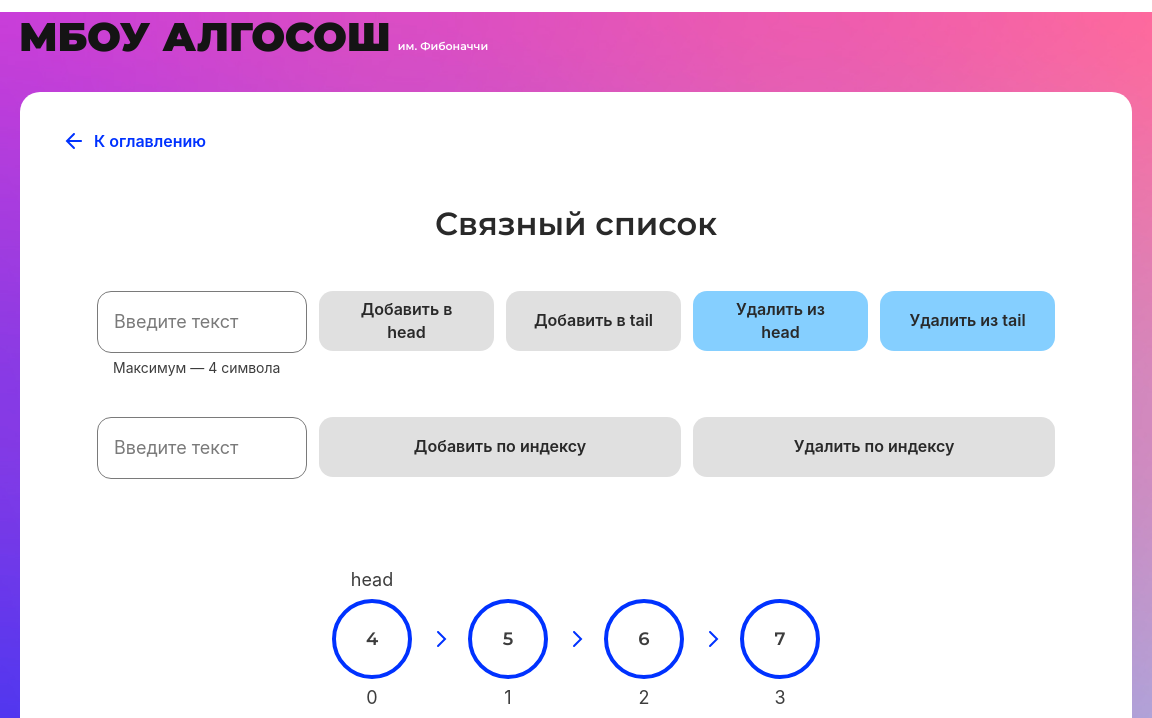
Test: list works right › adding element to head
The image size is (1152, 718).
Step 1. Type "1" into the field with test id "mainInput" showing "Введите текст" → (202, 322), box [97, 291, 307, 353]
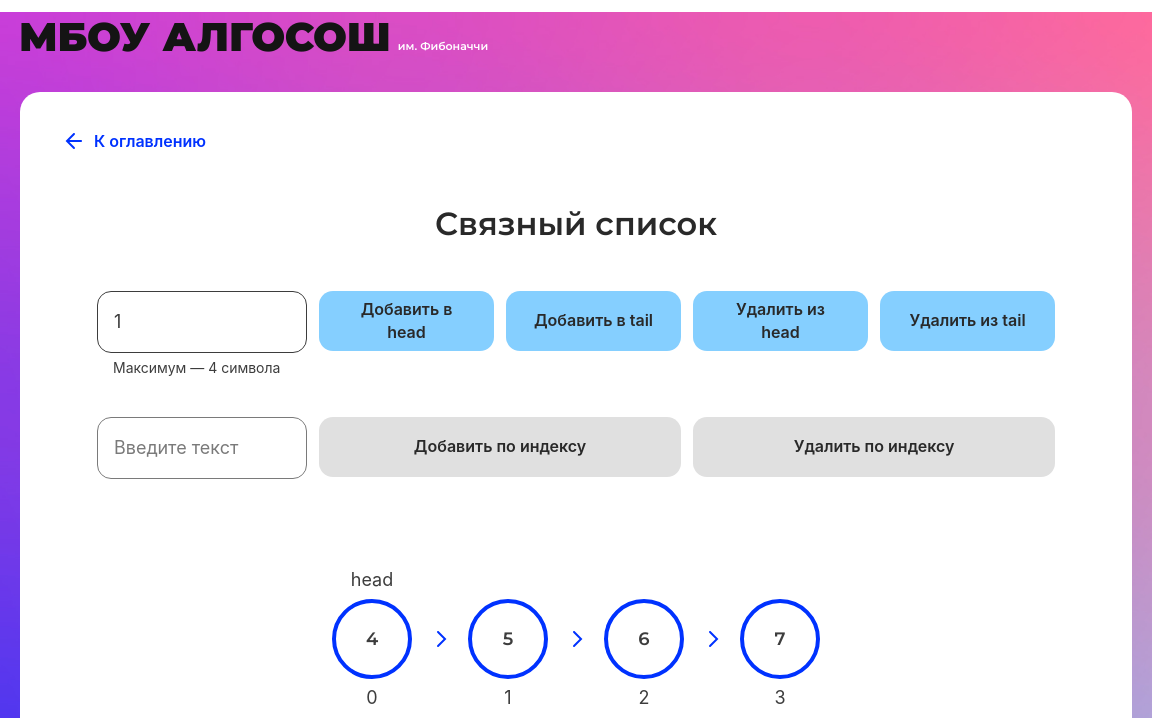
Step 2. Click the button with test id "actionButton" showing "Добавить в head" → (407, 321), box [319, 291, 494, 351]
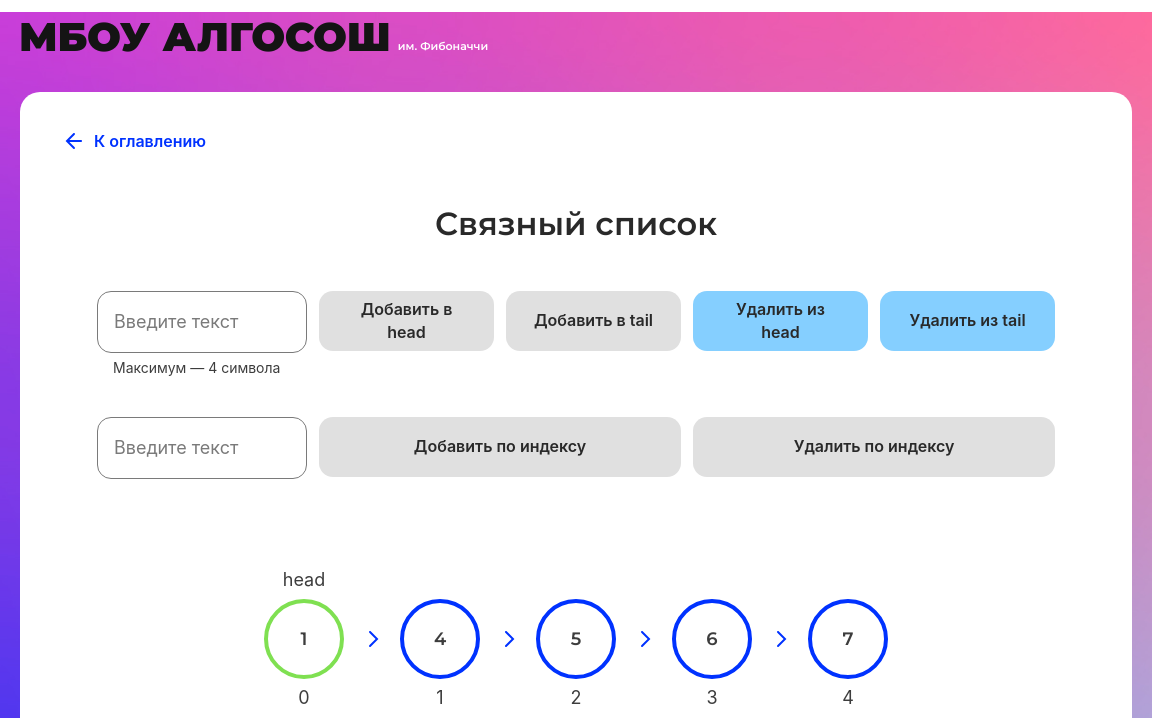
Check: the text with test id "circleHead" reads "head", box [283, 569, 325, 590]
Check: the text with test id "circleInsides" reads "1", box [301, 628, 308, 650]
